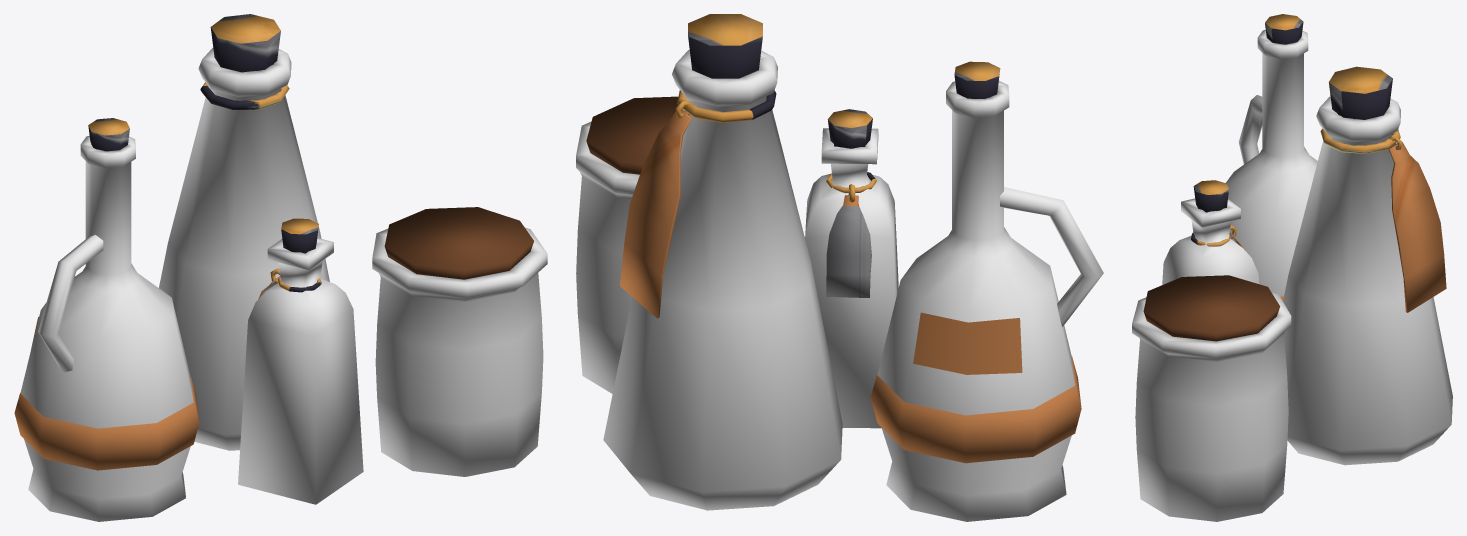
File: combination6LP.fbx
3 renders of one model, left to right at view 1: azimuth 30°, elevation 25°; view 2: azimuth 150°, elevation 25°; view 3: azimuth 270°, elevation 25°, orthographic. The views are drawn at different scales.
Parts seen in each view (by area): view 1: glassC6, potionC6; view 2: glassC6, potionC6; view 3: glassC6, potionC6.
Part boxes in pixels (x1,y1,x2,y2): glassC6: [20, 47, 547, 521]; potionC6: [14, 14, 533, 470]; glassC6: [576, 49, 1103, 521]; potionC6: [586, 14, 1081, 463]; glassC6: [1132, 30, 1452, 521]; potionC6: [1143, 14, 1446, 341].
Bounding box in the file's own units: 169 × 132 × 109.
